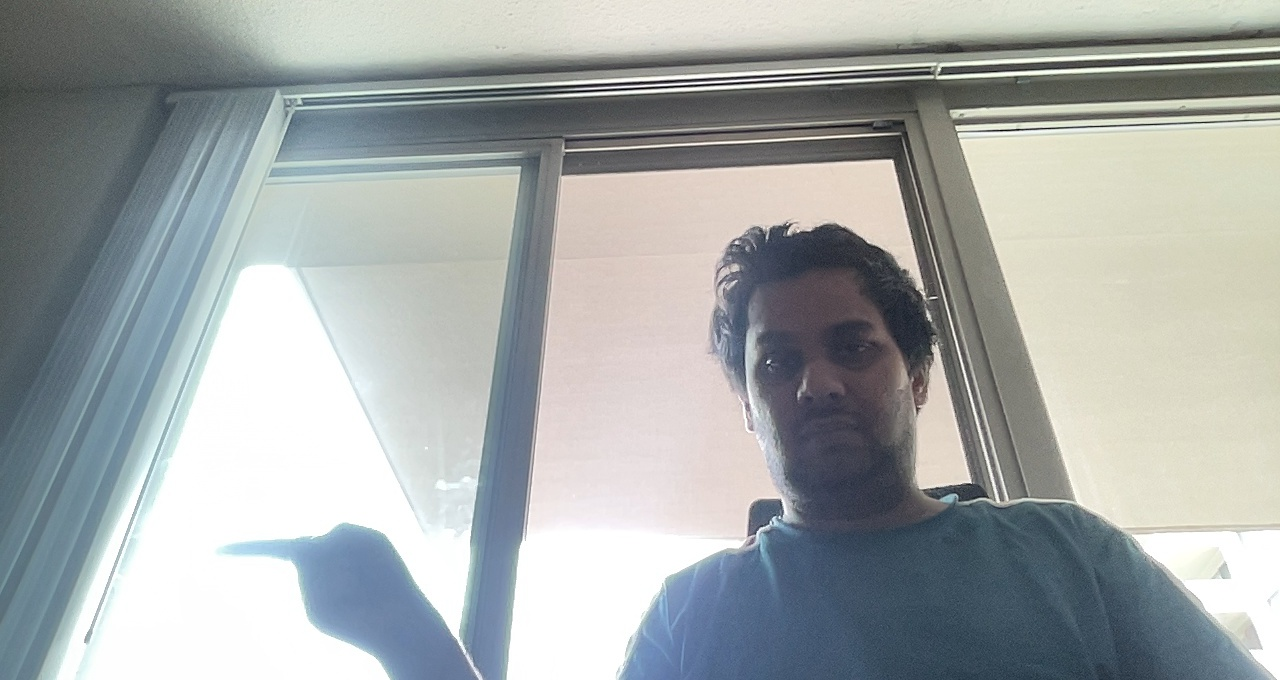fingerright: (213, 515, 441, 652)
